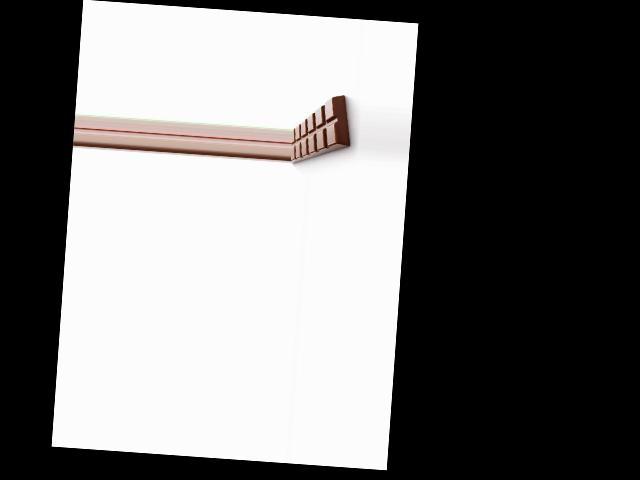chocolate: (290, 91, 355, 172)
